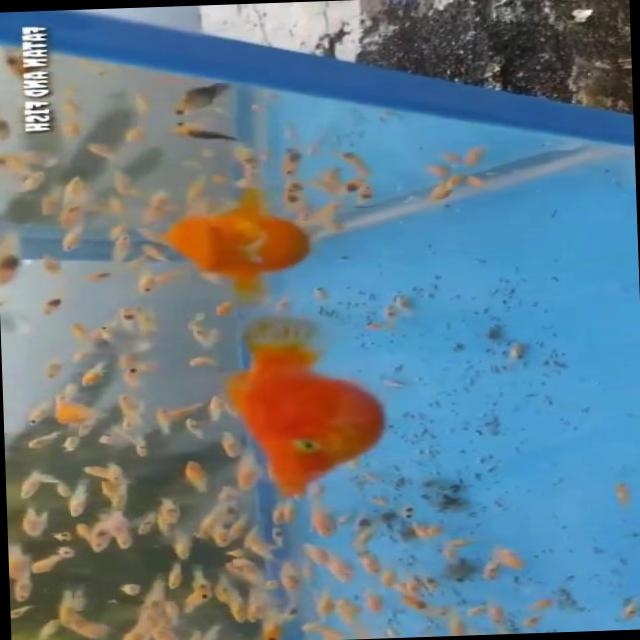PlatyFish: (214, 309, 399, 505)
